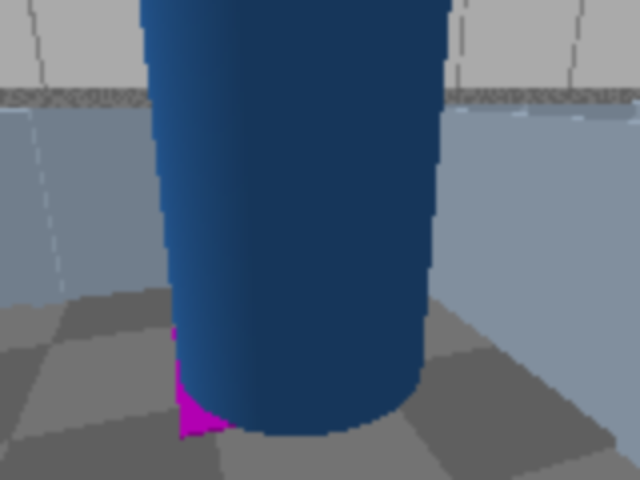person: (0, 0, 547, 431)
